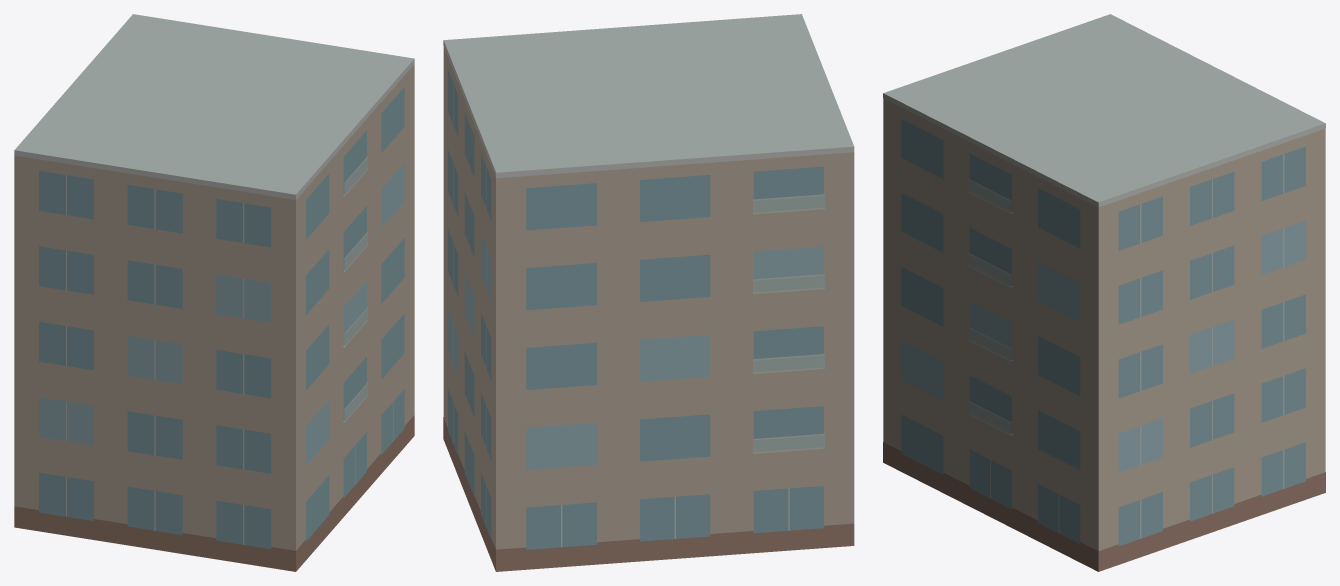
Rendered from survey-upis-32844101.glb.
The picture shows the model from 3 angles, left to right: view 1: azimuth 30°, elevation 25°; view 2: azimuth 150°, elevation 25°; view 3: azimuth 270°, elevation 25°; orthographic projection. The views are drawn at different scales.
Visible parts, largest first — view 1: survey-upis-32844101.tmp; view 2: survey-upis-32844101.tmp; view 3: survey-upis-32844101.tmp.
Boxes of the visible parts, x1=… form: survey-upis-32844101.tmp: x1=14, y1=14, x2=414, y2=571; survey-upis-32844101.tmp: x1=443, y1=14, x2=854, y2=571; survey-upis-32844101.tmp: x1=883, y1=14, x2=1325, y2=571.
Bounding box in the file's own units: 19.07 × 17.43 × 18.93.
